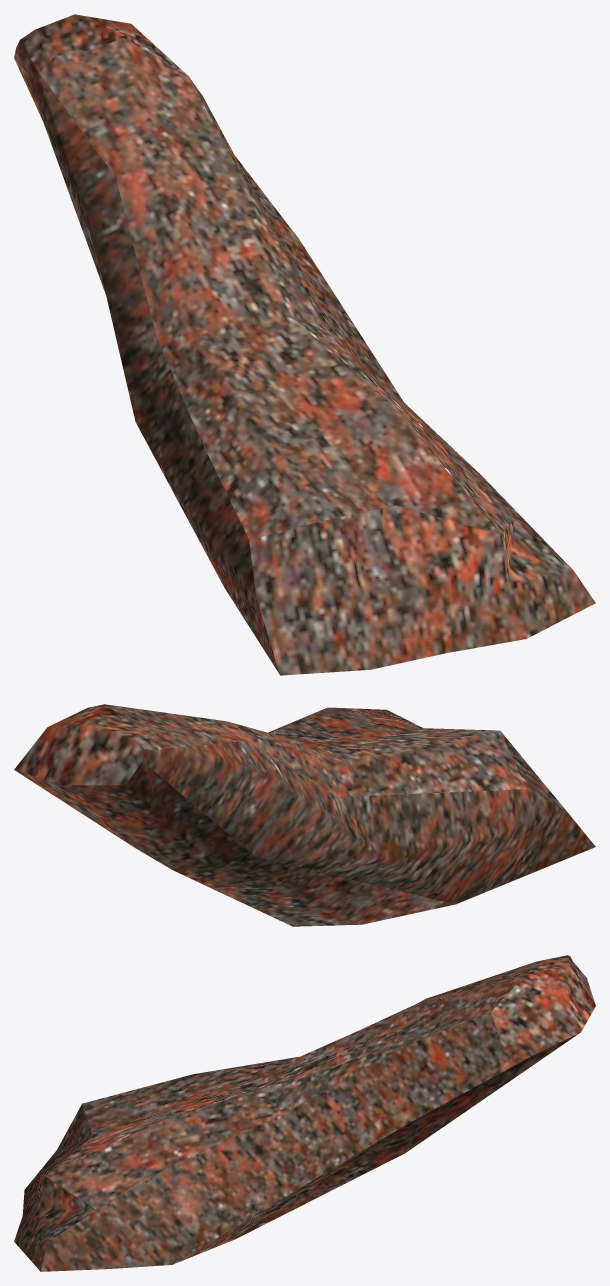
File: SphereLock_1.fbx
3 views of the same model, one above another, from view 1: azimuth 30°, elevation 25°; view 2: azimuth 150°, elevation 25°; view 3: azimuth 270°, elevation 25° (orthographic). The views are drawn at different scales.
Parts seen in each view (by area): view 1: Box001; view 2: Box001; view 3: Box001.
Boxes of the visible parts, <box> form: Box001: <box>14,14,595,675</box>; Box001: <box>14,704,595,926</box>; Box001: <box>14,955,595,1271</box>.
Size of the model in its own units: 25.27 by 27.66 by 57.37.
